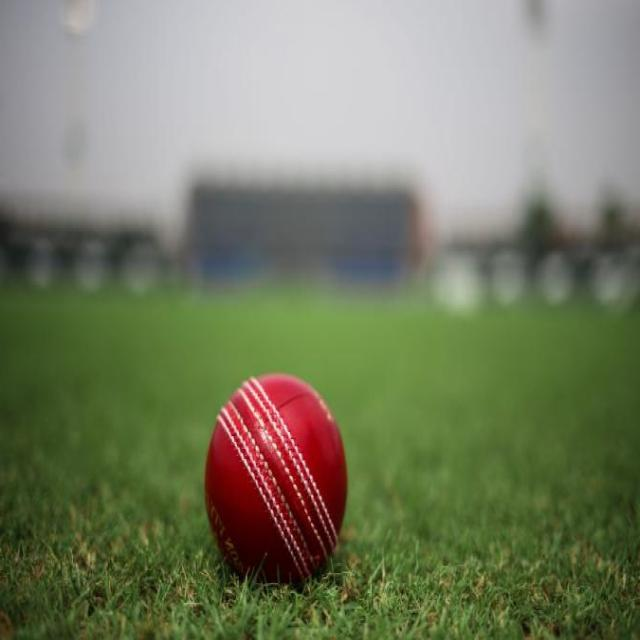ball: (204, 375, 348, 586)
